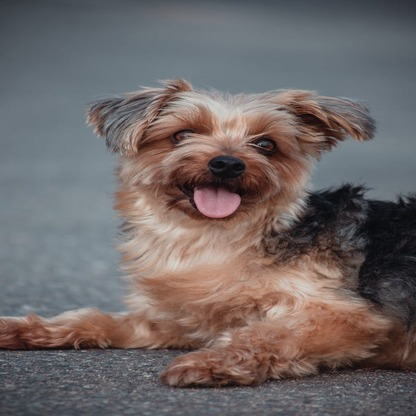yorkshire: (3, 77, 414, 385)
